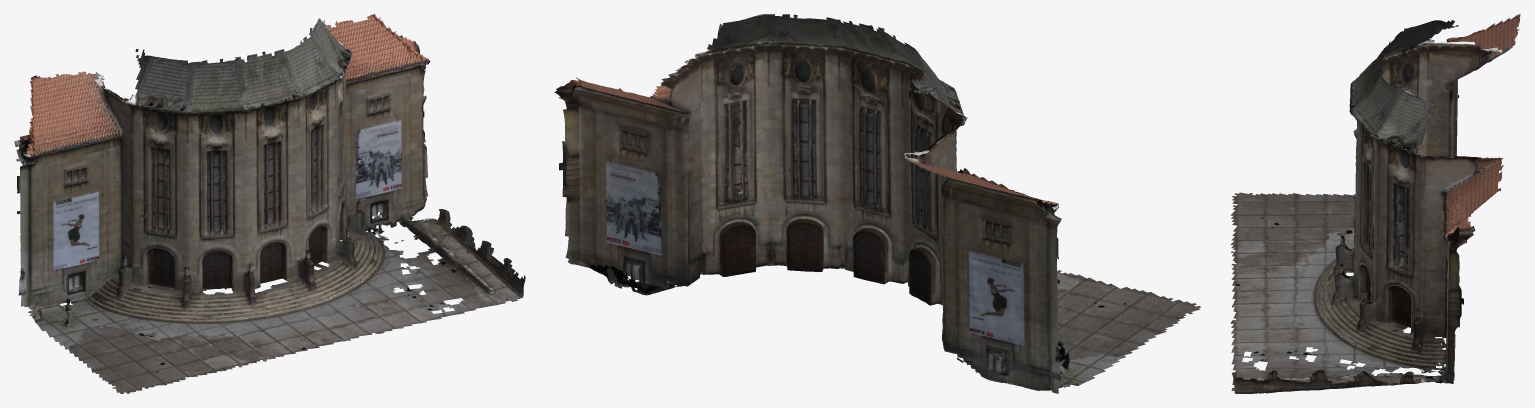
The picture shows the model from 3 angles, left to right: view 1: azimuth 30°, elevation 25°; view 2: azimuth 150°, elevation 25°; view 3: azimuth 270°, elevation 25°; orthographic projection. The views are drawn at different scales.
Parts seen in each view (by area): view 1: stadtheater_low_poly; view 2: stadtheater_low_poly; view 3: stadtheater_low_poly.
Boxes of the visible parts, x1=… form: stadtheater_low_poly: x1=14, y1=14, x2=525, y2=393; stadtheater_low_poly: x1=554, y1=14, x2=1200, y2=393; stadtheater_low_poly: x1=1231, y1=14, x2=1520, y2=393.
Size of the model in its own units: 6.46 by 3.53 by 3.83.
Materials: 1 (1 with a texture image).
